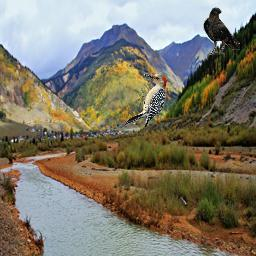Crow: (203, 7, 240, 55)
Woodpecker: (122, 71, 173, 127)
